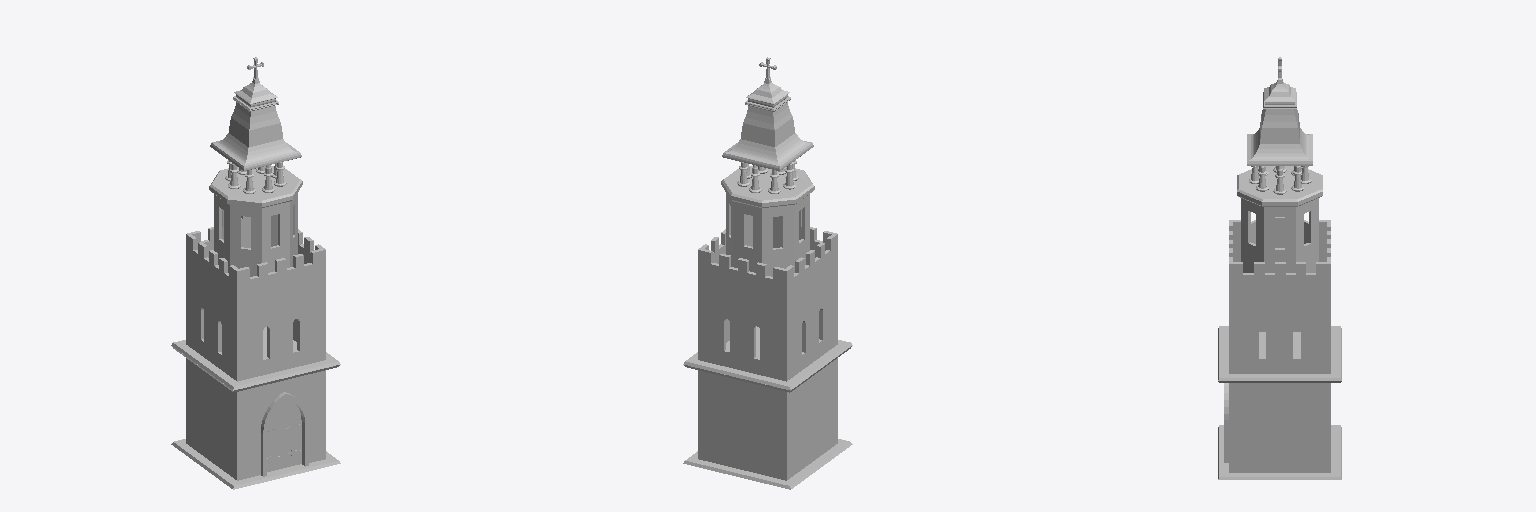
Rendered from castle-tower.obj.
The picture shows the model from 3 angles: view 1: azimuth 30°, elevation 25°; view 2: azimuth 150°, elevation 25°; view 3: azimuth 270°, elevation 25°; orthographic projection.
Visible parts, largest first — view 1: T_LOW, T_MID, T_TOP, T_TRIM_1, T_TRIM_2, T_DOOR, T_BASE, T_ARCH, T_COLLS; view 2: T_LOW, T_MID, T_TOP, T_TRIM_1, T_TRIM_2, T_BASE, T_COLLS; view 3: T_LOW, T_MID, T_TOP, T_TRIM_1, T_TRIM_2, T_BASE, T_COLLS.
Boxes of the visible parts, <box> form: T_LOW: <box>186,227,325,480</box>; T_MID: <box>214,193,297,276</box>; T_TOP: <box>210,77,301,170</box>; T_TRIM_1: <box>171,327,340,392</box>; T_TRIM_2: <box>209,166,302,207</box>; T_DOOR: <box>267,398,301,471</box>; T_BASE: <box>171,439,340,489</box>; T_ARCH: <box>261,392,308,476</box>; T_COLLS: <box>225,160,286,193</box>; T_LOW: <box>698,227,837,480</box>; T_MID: <box>726,193,809,276</box>; T_TOP: <box>722,77,813,170</box>; T_TRIM_1: <box>683,326,852,392</box>; T_TRIM_2: <box>721,166,814,207</box>; T_BASE: <box>683,439,852,489</box>; T_COLLS: <box>737,160,798,193</box>; T_LOW: <box>1229,220,1330,472</box>; T_MID: <box>1241,198,1318,272</box>; T_TOP: <box>1247,78,1312,165</box>; T_TRIM_1: <box>1218,326,1341,382</box>; T_TRIM_2: <box>1237,166,1322,206</box>; T_BASE: <box>1218,425,1341,479</box>; T_COLLS: <box>1249,166,1311,194</box>.
Bounding box in the file's own units: 195 × 684 × 195.